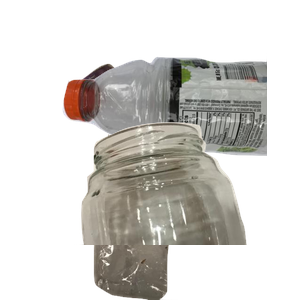glass: (74, 120, 300, 300)
metal: (77, 61, 222, 191)
plastic: (60, 53, 300, 201)
trash: (70, 120, 256, 300)
